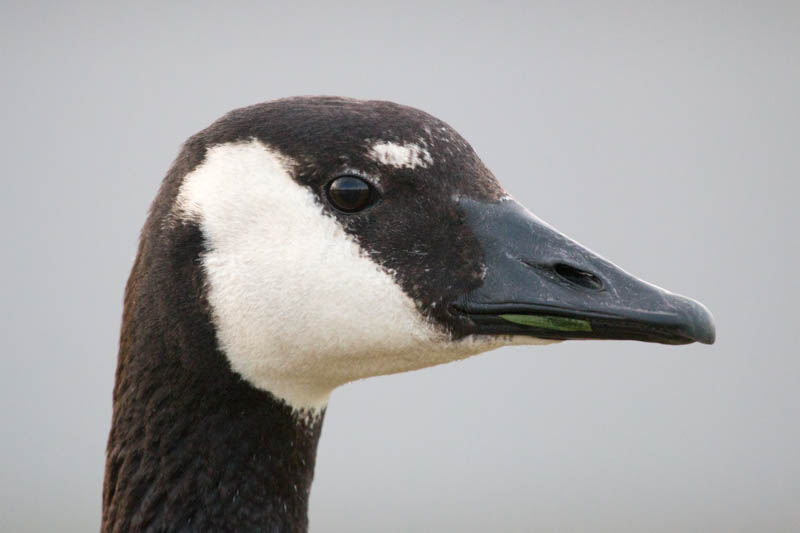goose-head: (118, 97, 717, 424)
